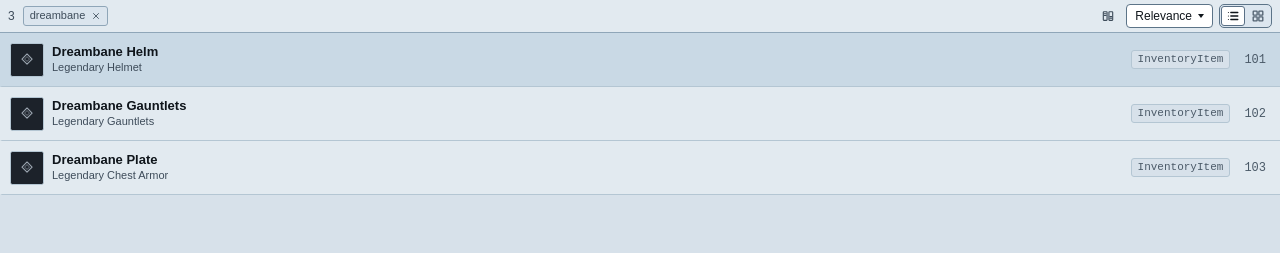
Test: Diff controls stay behind the Diff tab gate › on mobile keeps the Results screen and shows a clear banner when the bucket is empty
Click the button named "Open Diff tab" at (1108, 16), box [1096,4,1120,28]
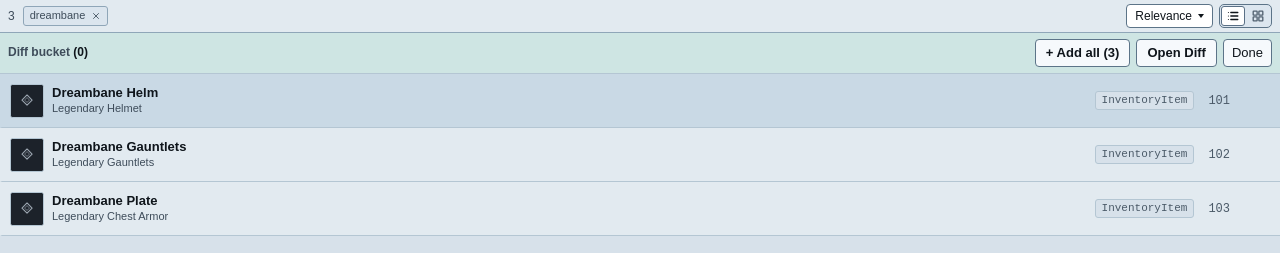
Check: the message "Diff bucket (0) + Add all (3) Open Diff Done" is shown, box [0,33,1279,74]
